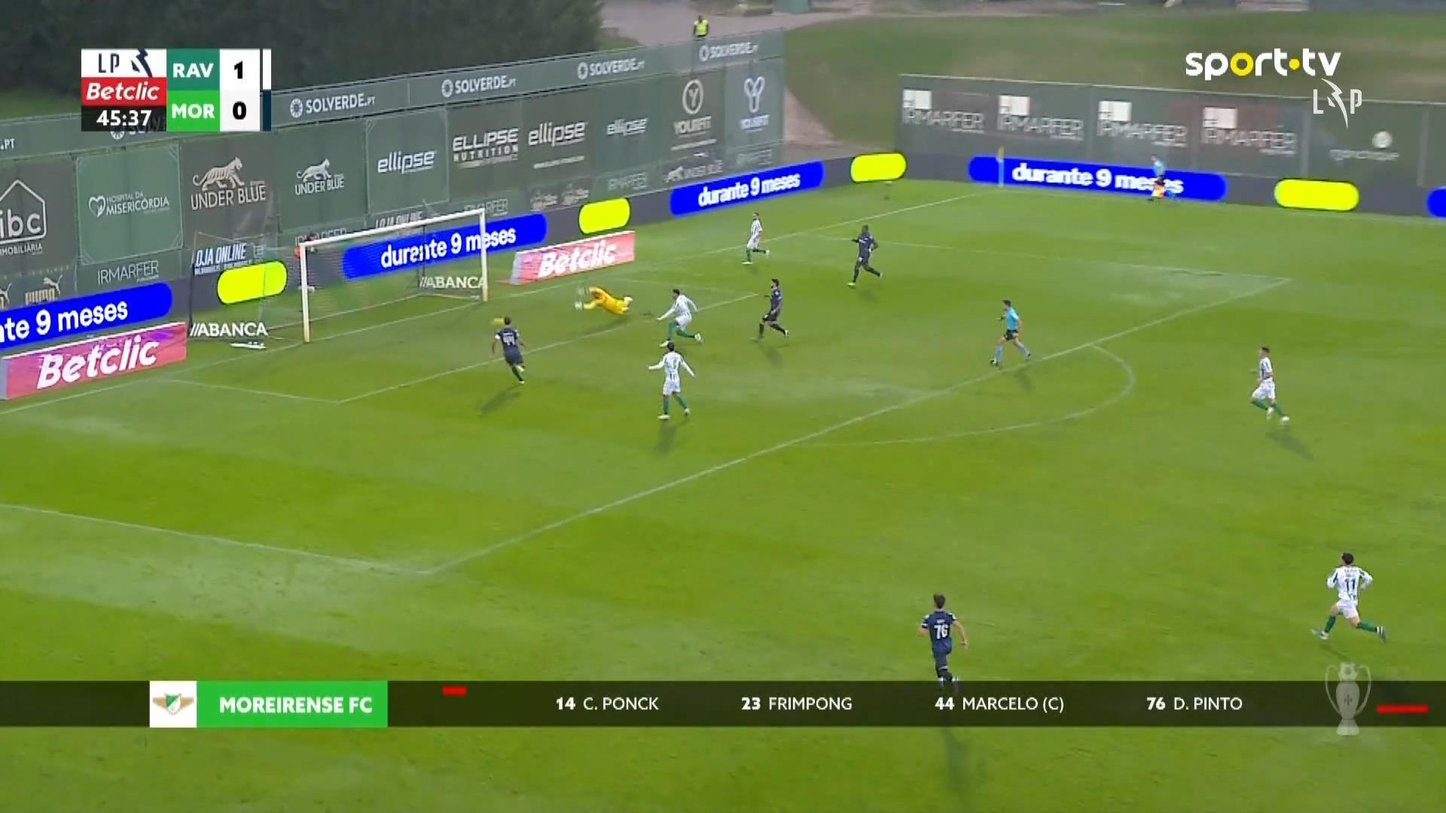ball: (492, 316, 505, 325)
goalkeeper: (572, 285, 633, 315)
player: (1310, 551, 1387, 643), (917, 592, 968, 689), (646, 339, 695, 419), (1249, 344, 1290, 422), (654, 287, 703, 346), (490, 315, 527, 384), (750, 277, 788, 341), (846, 224, 882, 288), (740, 212, 769, 265)
referee: (989, 298, 1032, 367), (1147, 153, 1167, 200)
